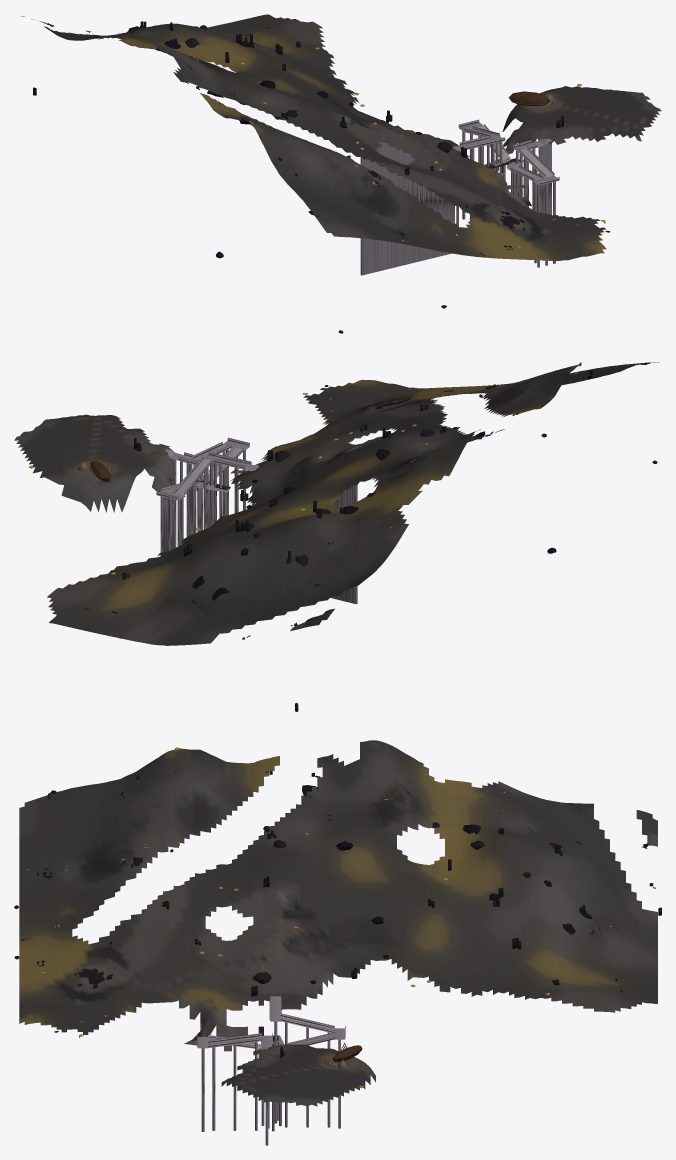
File: ash_isl_ember_wreck.glb
3 views of the same model, one above another, from view 1: azimuth 30°, elevation 25°; view 2: azimuth 150°, elevation 25°; view 3: azimuth 270°, elevation 25° (orthographic). The views are drawn at different scales.
Parts seen in each view (by area): view 1: ash_isl_ember_wreck; view 2: ash_isl_ember_wreck; view 3: ash_isl_ember_wreck.
Boxes of the visible parts, bbox=[...] form: ash_isl_ember_wreck: bbox=[21, 14, 661, 333]; ash_isl_ember_wreck: bbox=[14, 362, 659, 711]; ash_isl_ember_wreck: bbox=[14, 740, 661, 1145].
Bounding box in the file's own units: 203 × 97.87 × 243.
